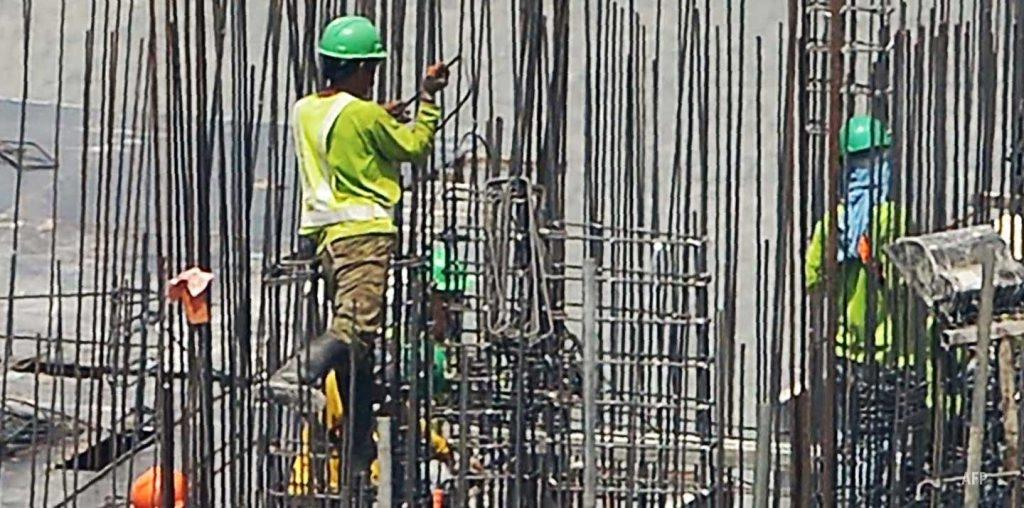helmet: (316, 14, 391, 62), (836, 115, 892, 154)
